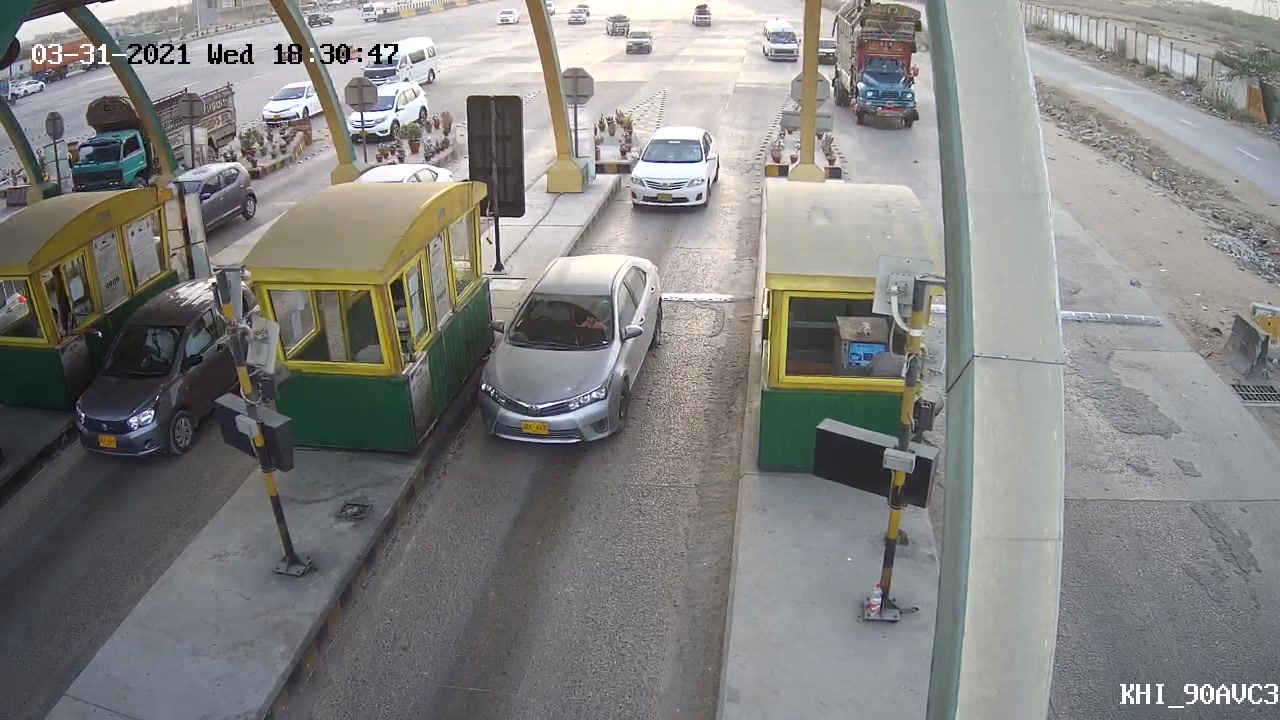F1: (468, 242, 672, 449), (621, 117, 734, 220)
